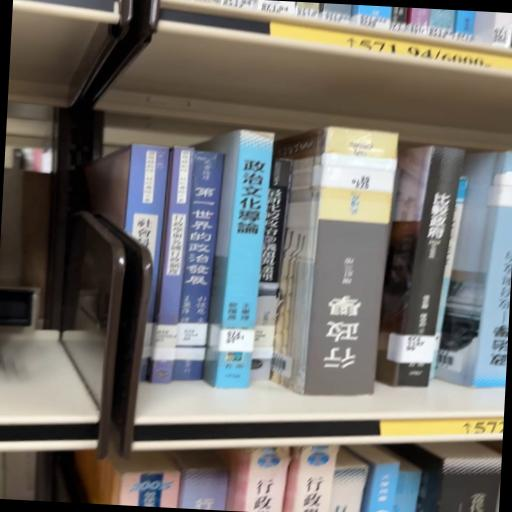reverse: (273, 127, 399, 397)
